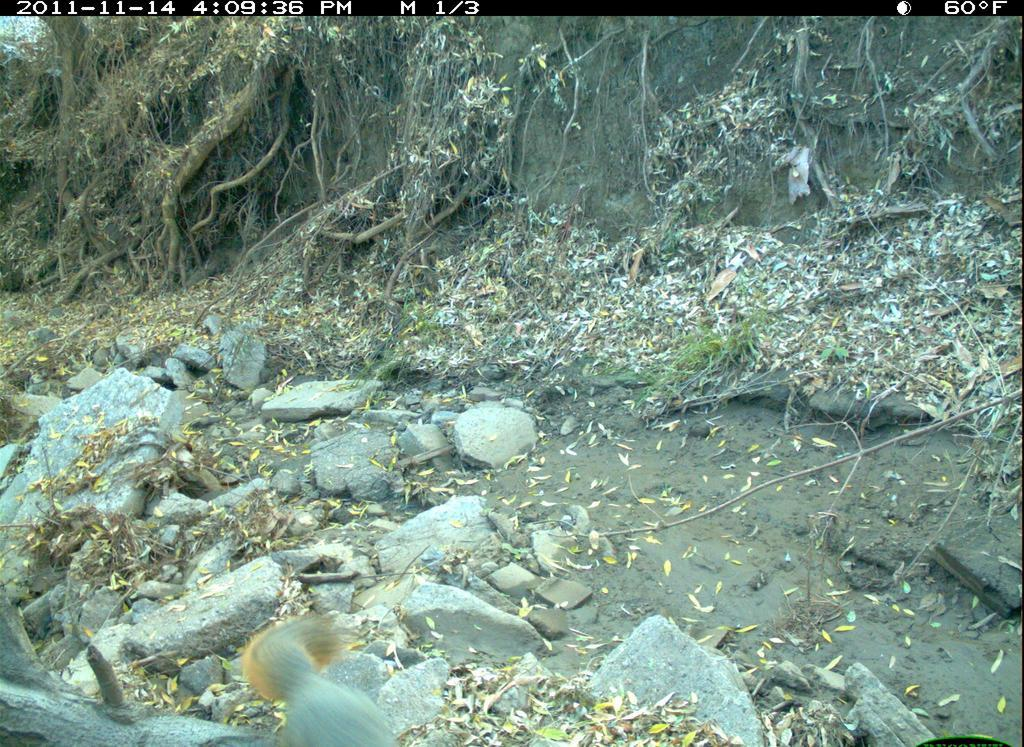squirrel: (237, 605, 427, 745)
